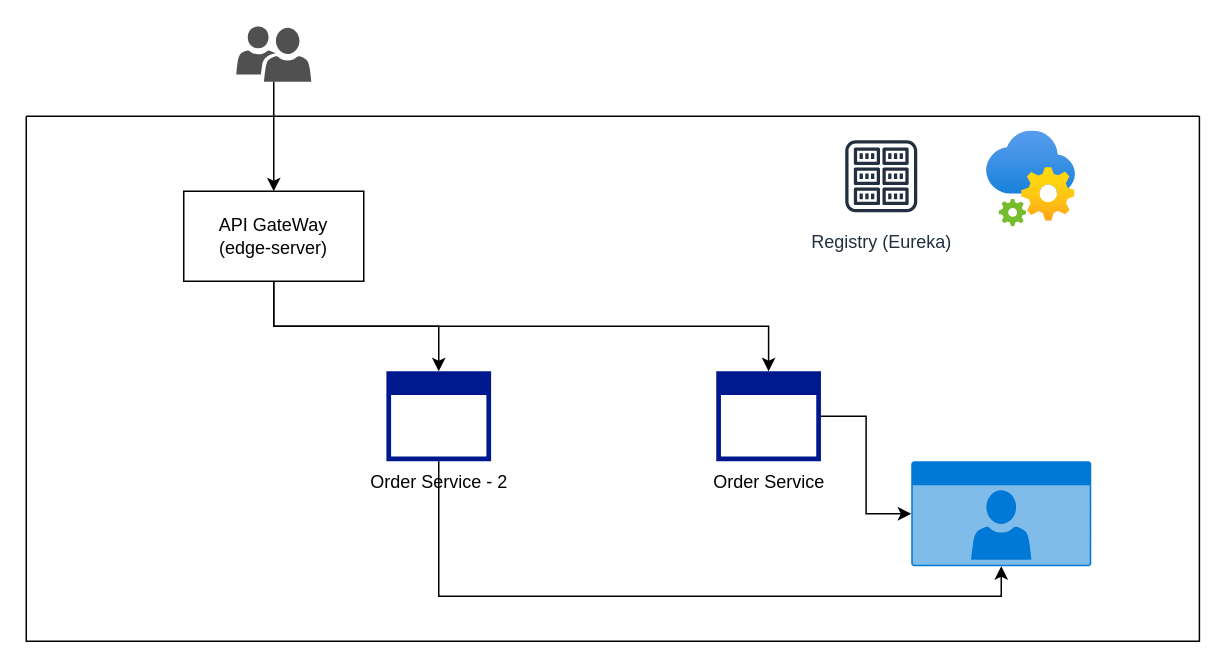
The diagram is 1227 pixels wide and 668 high, and some of its shapes have lost their labels. Each missing label, with the box of its shape:
Config Server: (986, 130, 1076, 226)
User Service: (910, 460, 1090, 566)
